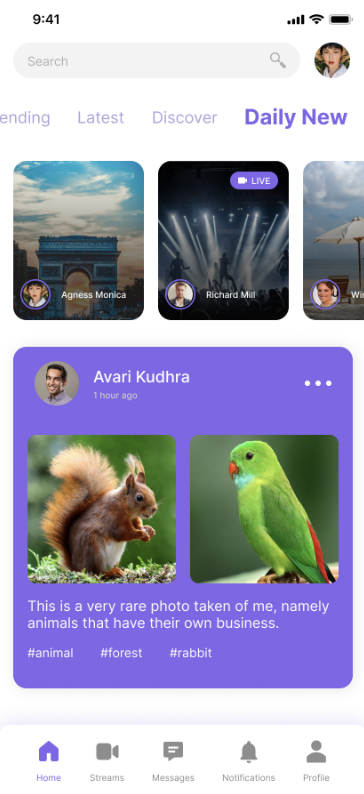BottomBar: (1, 723, 364, 794)
